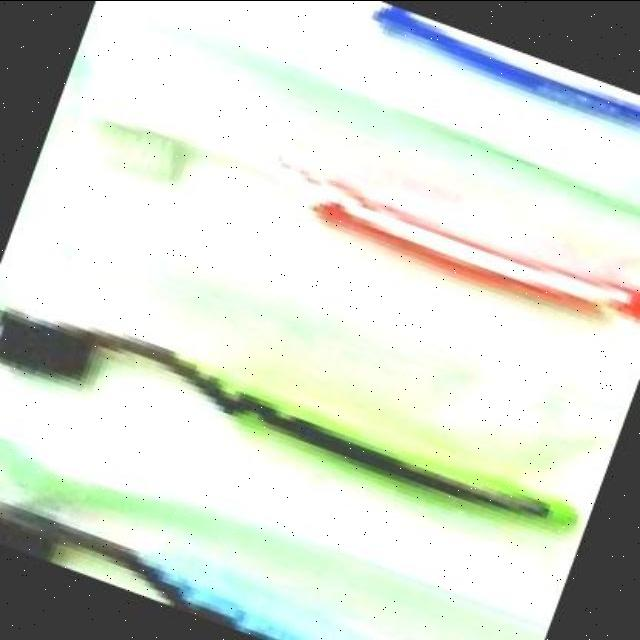toothbrush: (44, 40, 638, 400), (1, 244, 574, 590), (128, 2, 638, 182), (1, 464, 496, 640)
